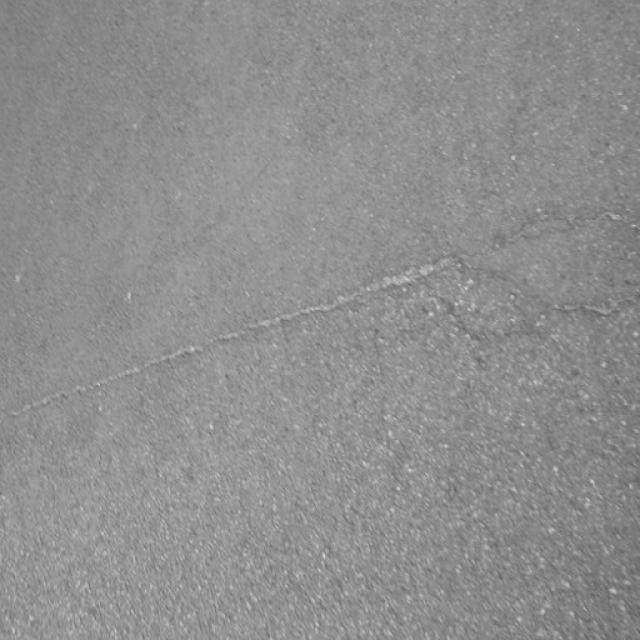SurfaceCrack: (0, 150, 638, 435)
